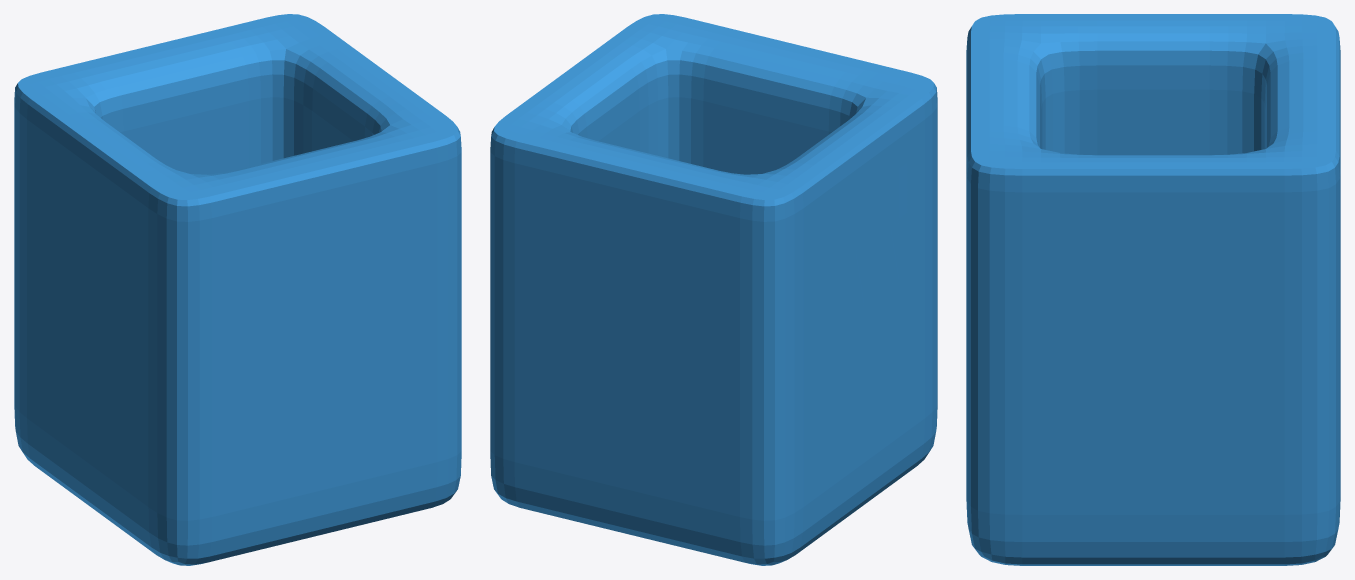
File: TrashCan.fbx
3 renders of one model, left to right at view 1: azimuth 30°, elevation 25°; view 2: azimuth 150°, elevation 25°; view 3: azimuth 270°, elevation 25°, orthographic. The views are drawn at different scales.
Parts seen in each view (by area): view 1: Cube; view 2: Cube; view 3: Cube.
Part boxes in pixels (x1,y1,x2,y2): Cube: (14, 14, 461, 565); Cube: (490, 14, 937, 565); Cube: (966, 14, 1340, 565).
Bounding box in the file's own units: 1 × 1.2 × 1.
